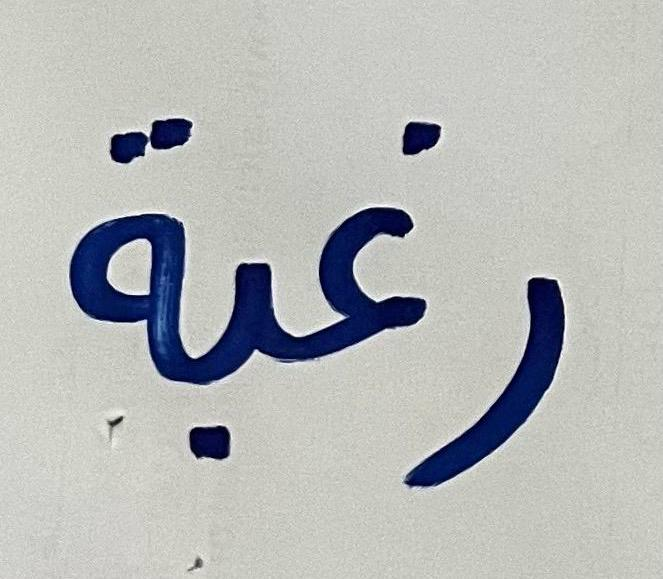beh: (192, 193, 292, 502)
ghain: (301, 64, 436, 384)
reh: (439, 226, 627, 556)
teh_marbota: (46, 89, 188, 409)
